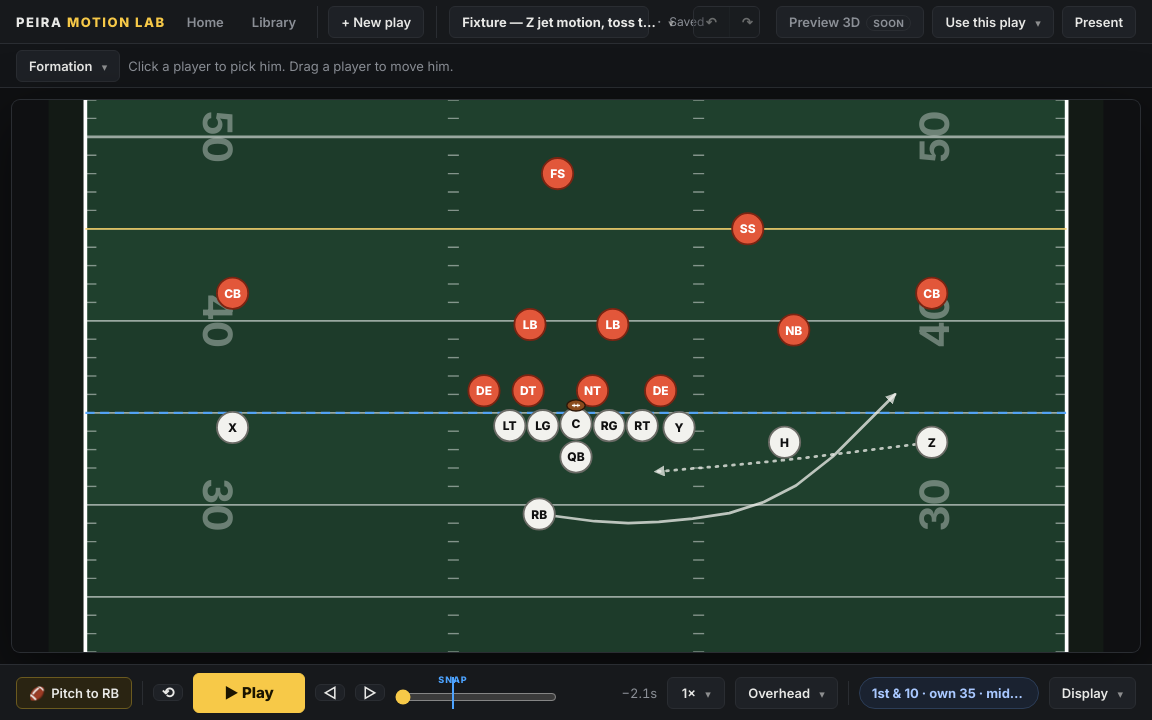
Motion Lab editor on the server › one "Use this play" button holds Make a rep, Make a quiz question and Teach a moment
expect the button "Make a rep" is not shown: met
Click the button "Use this play ▾".
click(993, 22)  # box x1=932 y1=6 x2=1054 y2=38
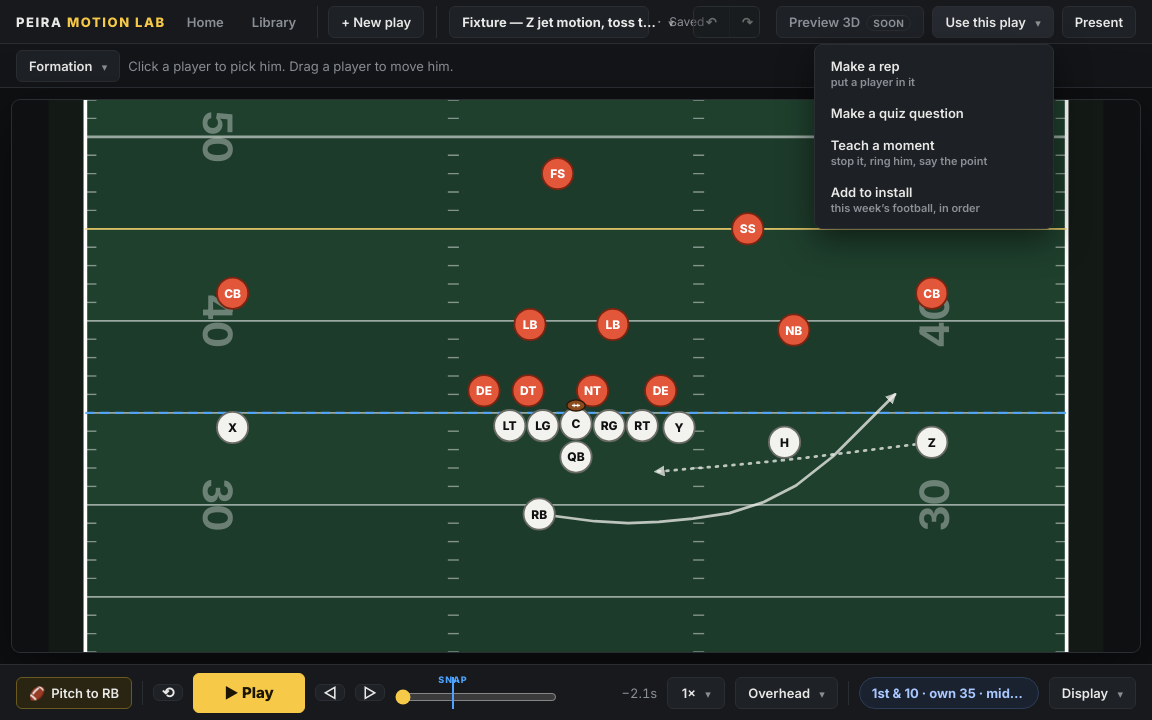
expect the menu item "Make a rep put a player in it" is shown: met, box x1=821 y1=50 x2=1047 y2=96
expect the menu item "Make a quiz question" is shown: met, box x1=821 y1=98 x2=1047 y2=128
Click the menu item "Teach a moment stop it, ring him, say the point".
click(934, 152)  # box x1=821 y1=130 x2=1047 y2=174
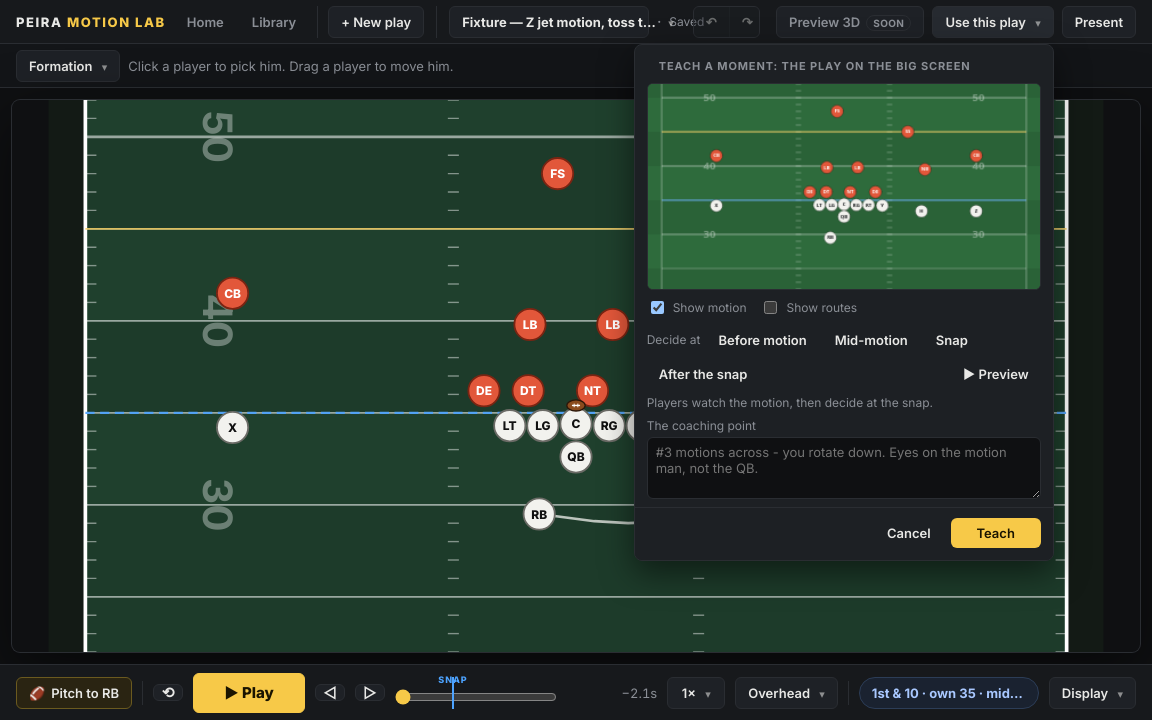
expect the dialog named "Teach this play" is shown: met, box x1=634 y1=44 x2=1054 y2=561
